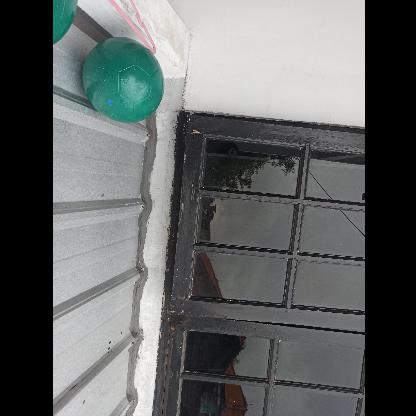green_ball: (81, 40, 167, 126)
